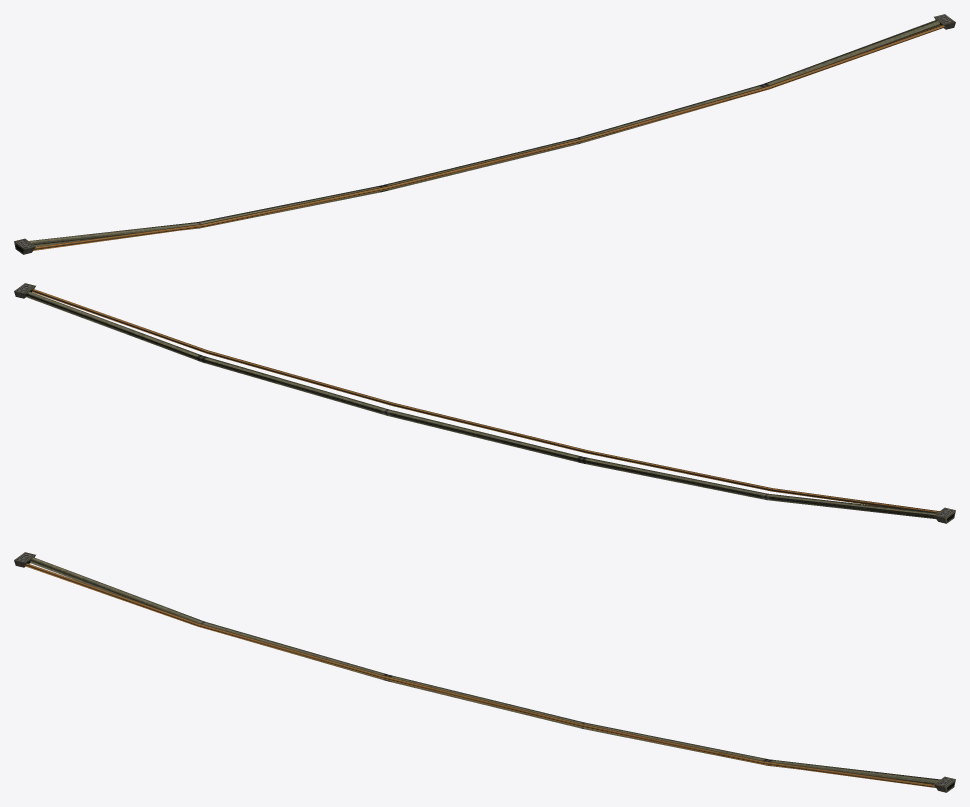
The model's file is M12_OverheadWire_16M.glb.
The picture shows the model from 3 angles, top to bottom: view 1: azimuth 30°, elevation 25°; view 2: azimuth 150°, elevation 25°; view 3: azimuth 330°, elevation 25°; orthographic projection.
Visible parts, largest first — view 1: M12_OVERHEADWIRE_16M; view 2: M12_OVERHEADWIRE_16M; view 3: M12_OVERHEADWIRE_16M.
Part boxes in pixels (x1,y1,x2,y2): M12_OVERHEADWIRE_16M: (14,14,955,254); M12_OVERHEADWIRE_16M: (14,283,955,523); M12_OVERHEADWIRE_16M: (14,552,955,792).
Bounding box in the file's own units: 16 × 0.611 × 0.328.
Materials: 1 (1 with a texture image).
